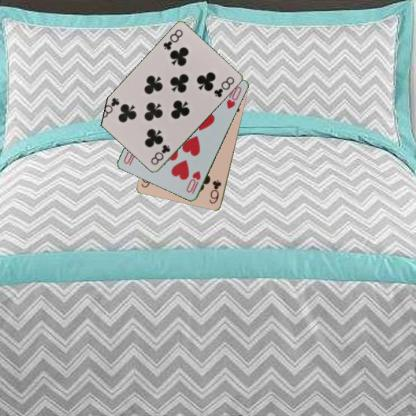10h: (184, 168, 202, 195)
6c: (207, 177, 222, 205)
8c: (148, 142, 172, 167), (161, 26, 184, 52)
